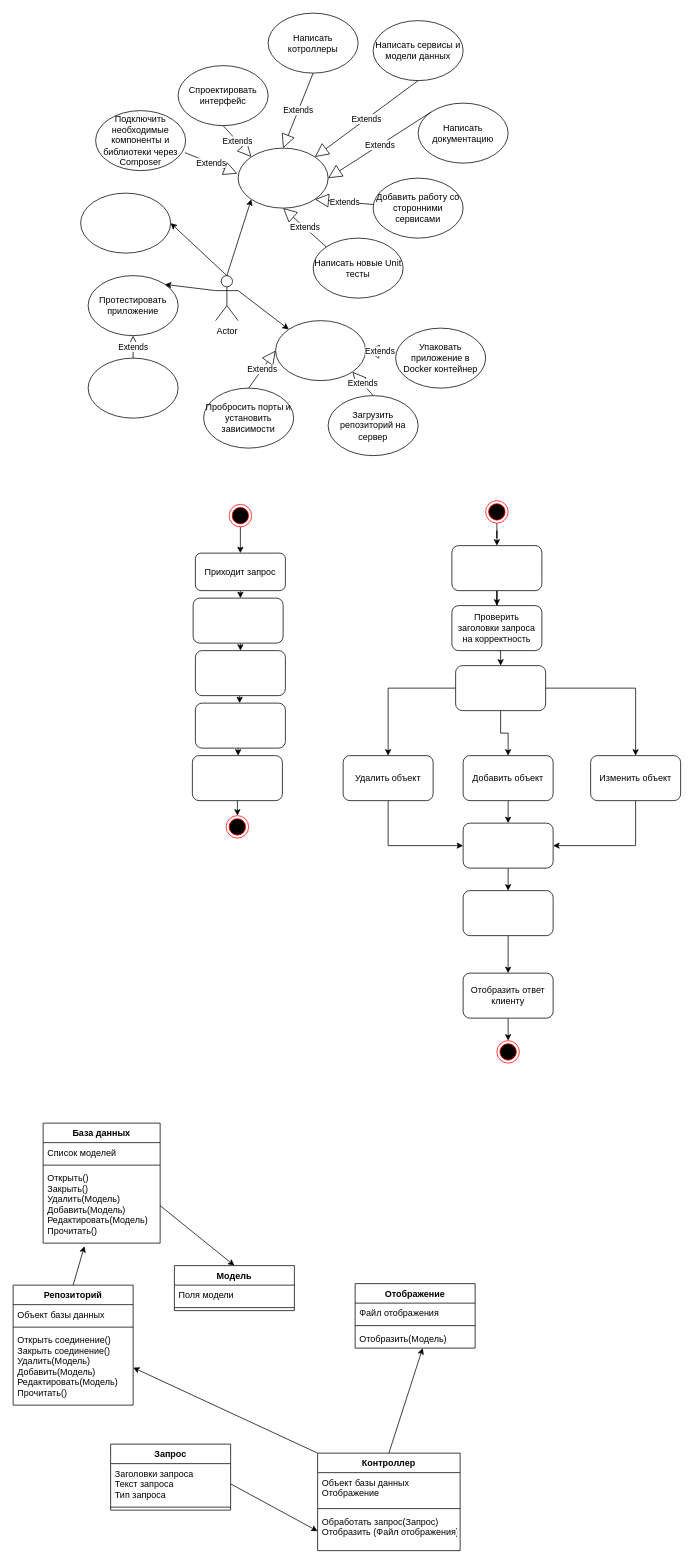
Image size: 694x1566. Some labels were removed from this diagram. Here are the shapes that lost their labels. From the top down, the centre of each, then its label:
At [282,177]: "Спроектировать приложение".
At [125,222]: "Выполнить Unit тестирование".
At [320,350]: "Развернуть приложение на сервере".
At [132,387]: "Запустить приложение на локальном сервере".
At [496,568]: "Получить запрос".
At [237,620]: "Контроллер обрабатывает запрос".
At [240,673]: "Валидация контекста запроса".
At [500,688]: "Сделать запрос к базе данных".
At [240,725]: "Сервис базы данных изменяет данные модели".
At [237,778]: "Контроллер дает ответ клиенту".
At [507,845]: "Вернуть ответ базы данных".
At [507,913]: "Обработать ответ контроллером".
